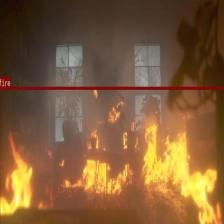fire: (0, 86, 224, 224)
